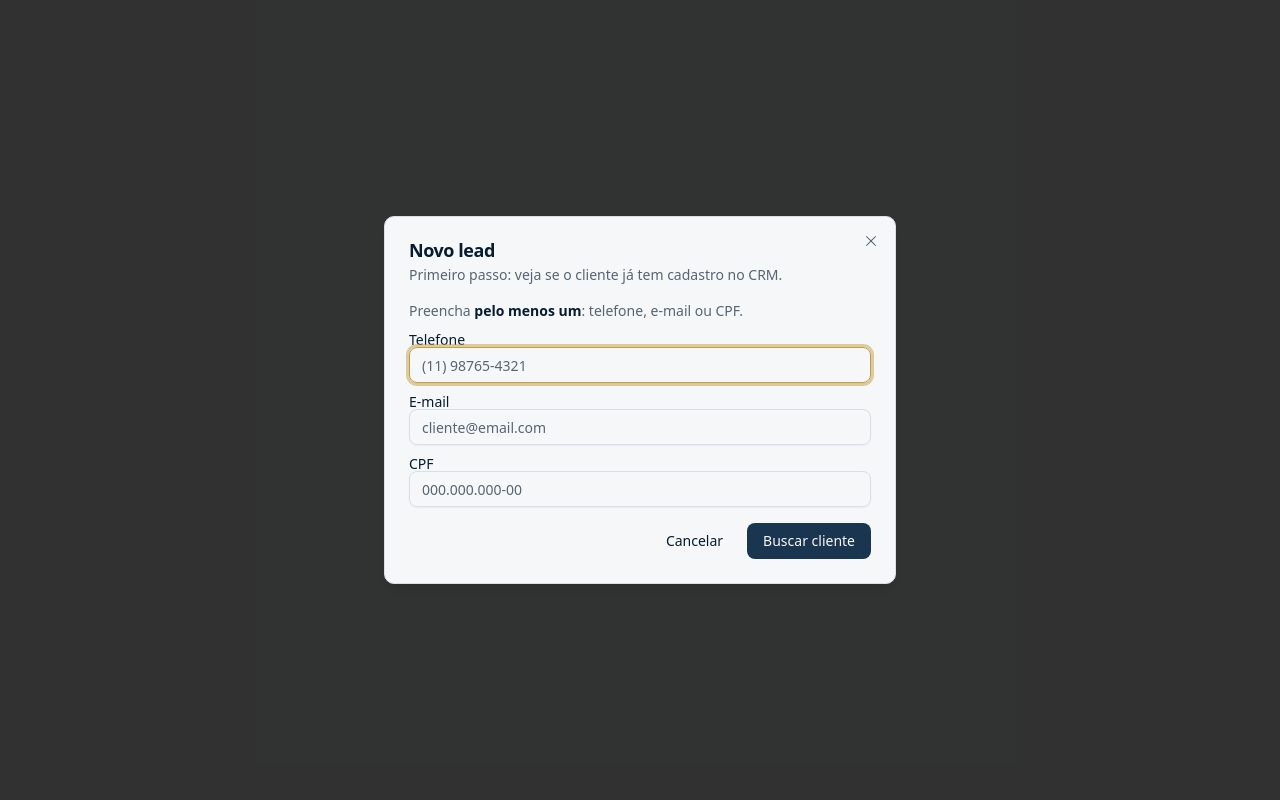
Scenario: Novo lead do corretor: a busca vem primeiro › mudar o que foi buscado apaga o resultado antigo
The width and height of the screenshot is (1280, 800).
In the field labelled "Telefone": (640, 365) [409,347,871,383], type "11987654321"
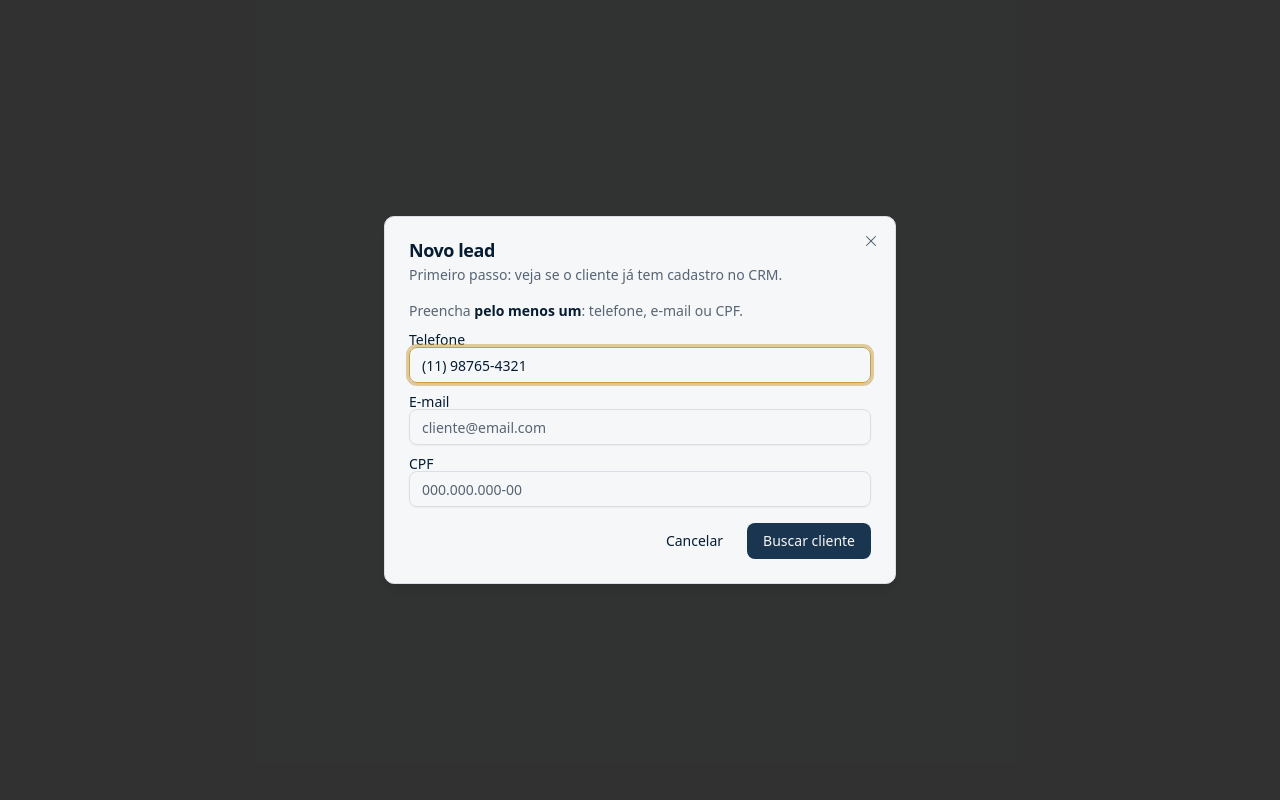
Click the button "Buscar cliente": (809, 541) [747,523,871,559]
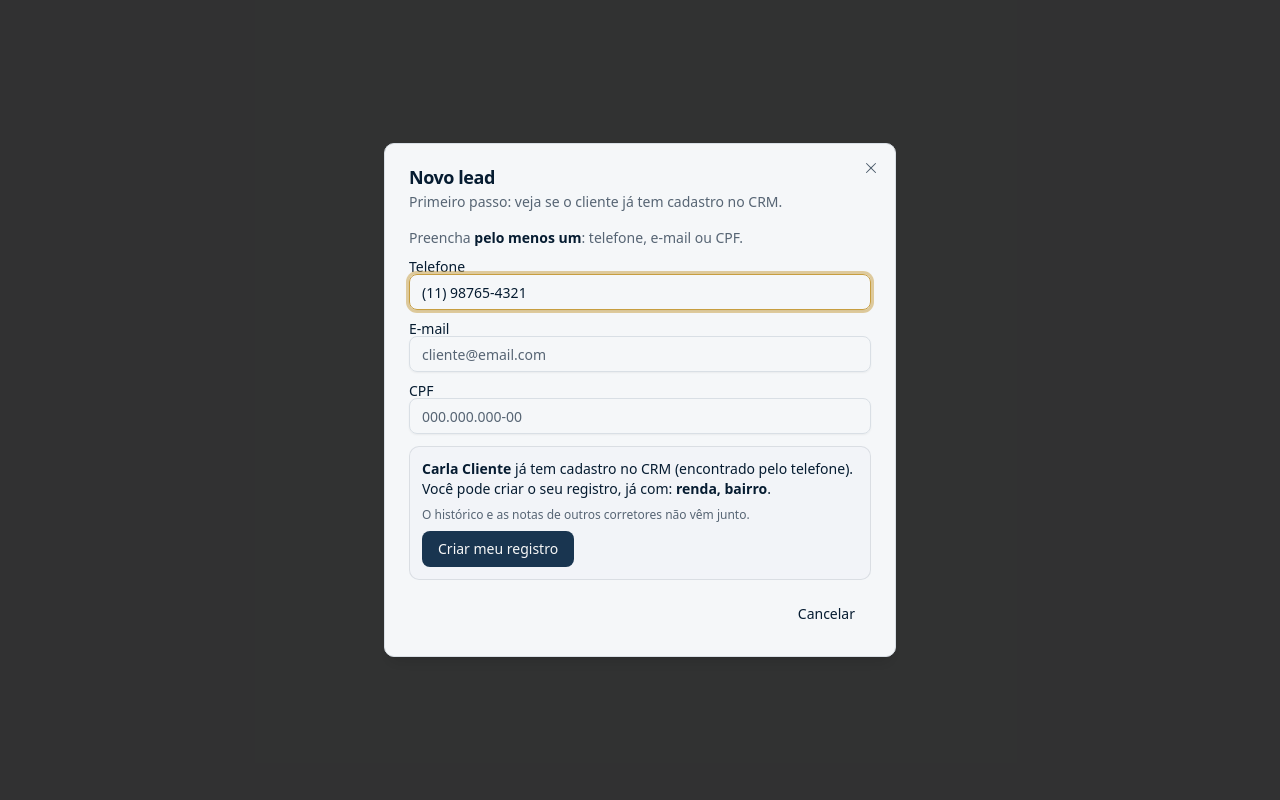
Result: the element with test id "oportunidade-disponivel" is shown at [409,446,871,580]
In the field labelled "Telefone": (640, 292) [409,274,871,310], type "11911112222"
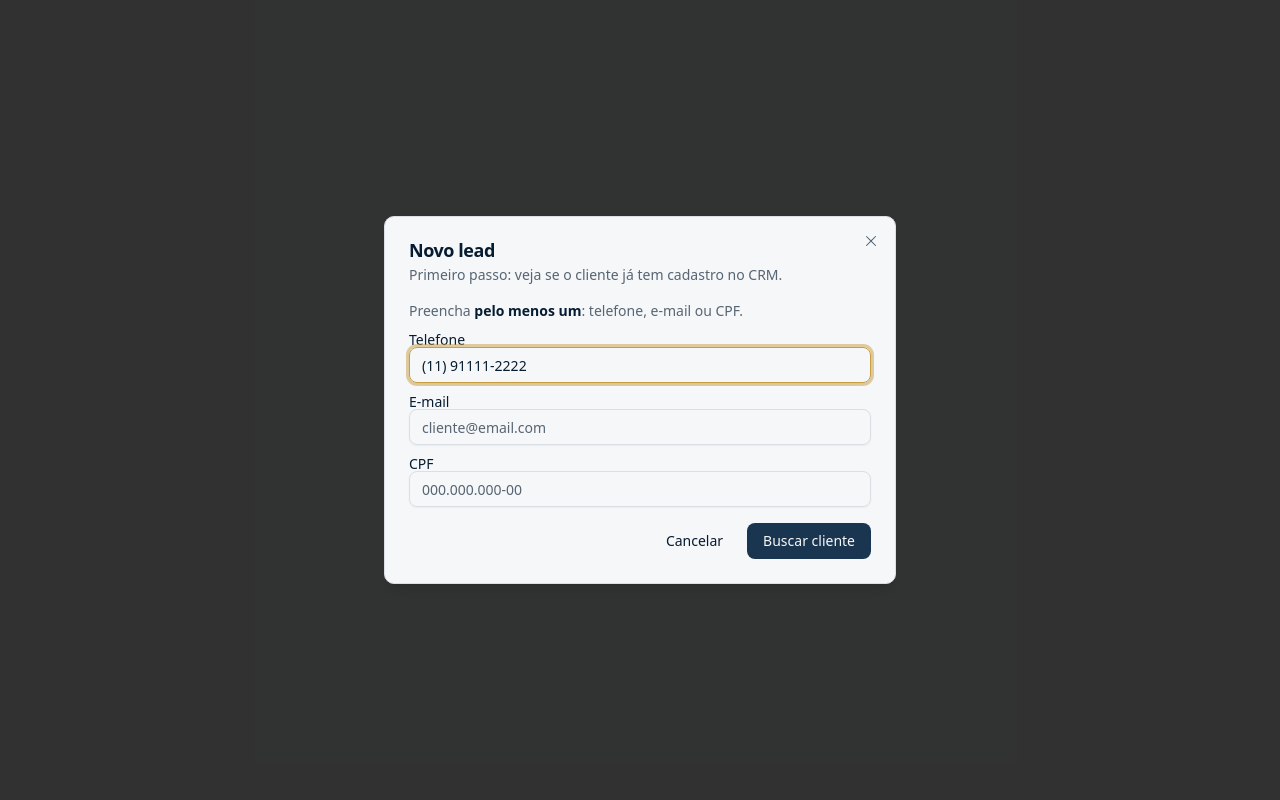
Result: the element with test id "oportunidade-disponivel" is gone
Result: the button "Buscar cliente" is shown at [747,523,871,559]
